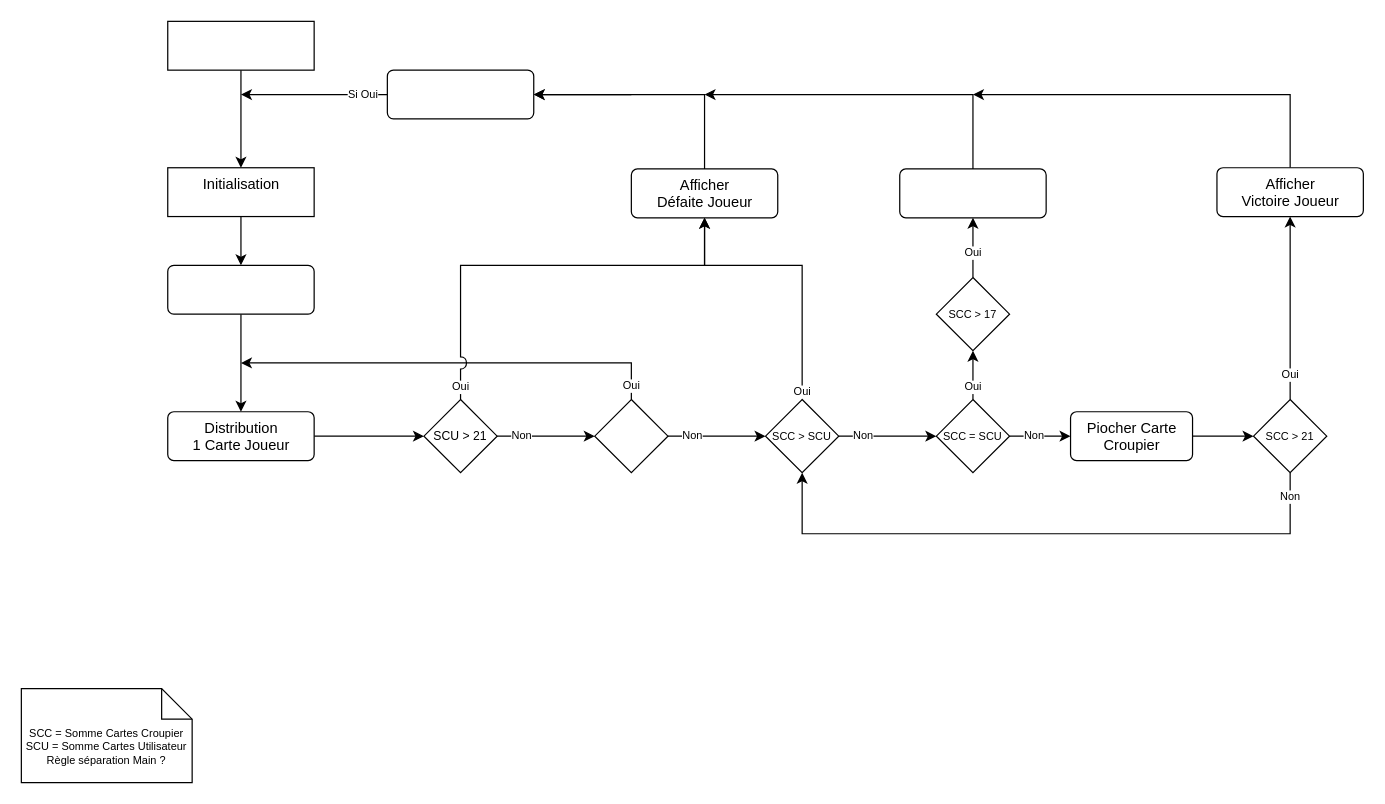
The diagram is 1385 pixels wide and 804 high, and some of its shapes have lost their labels. Here are the shapes that lost their labels. From the top down, the centre of each, then its label:
(240,45): Démarrage
(460,94): Proposer Nouvelle Partie
(972,193): Afficher Egalité
(240,289): Distribution 1 Carte Croupier
(631,435): Piocher Autre Carte
